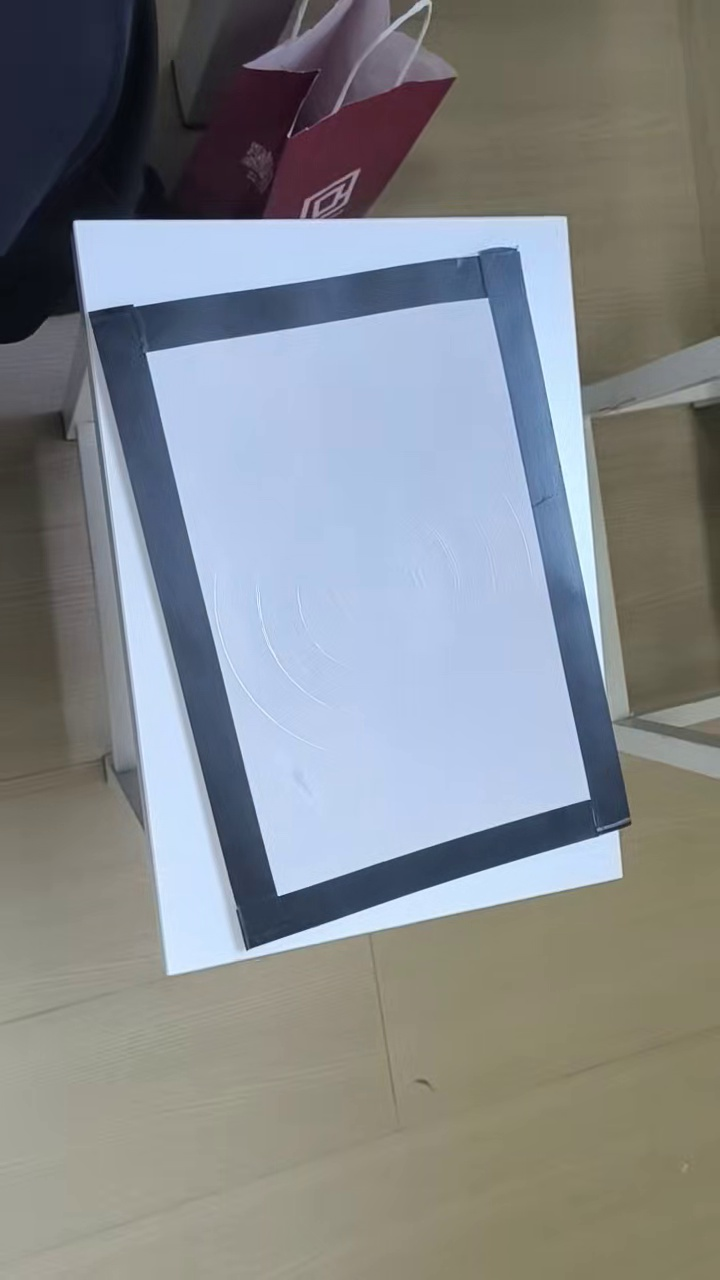board: (93, 245, 629, 942)
